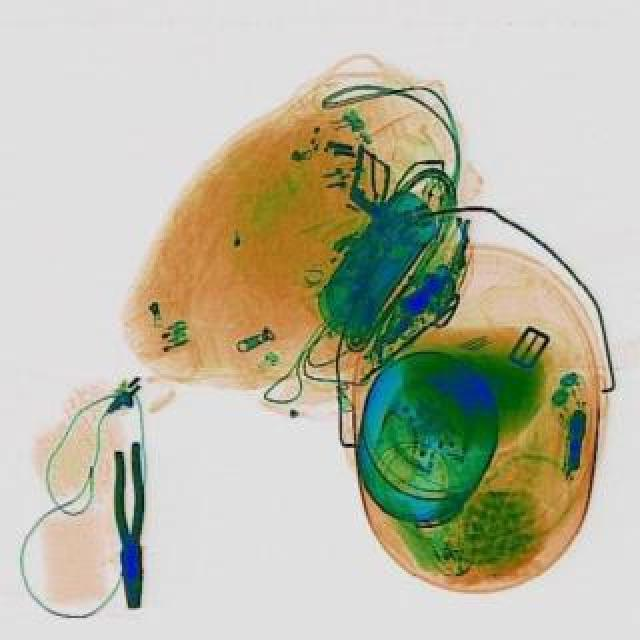wrench: (108, 440, 148, 606)
